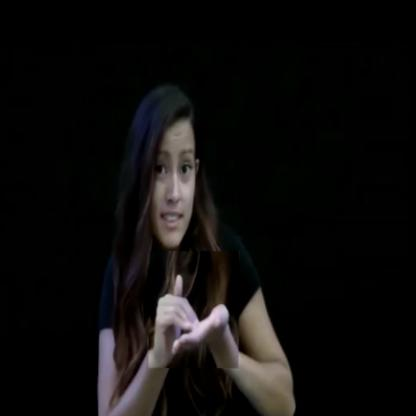ExcuseMe: (148, 248, 243, 368)
